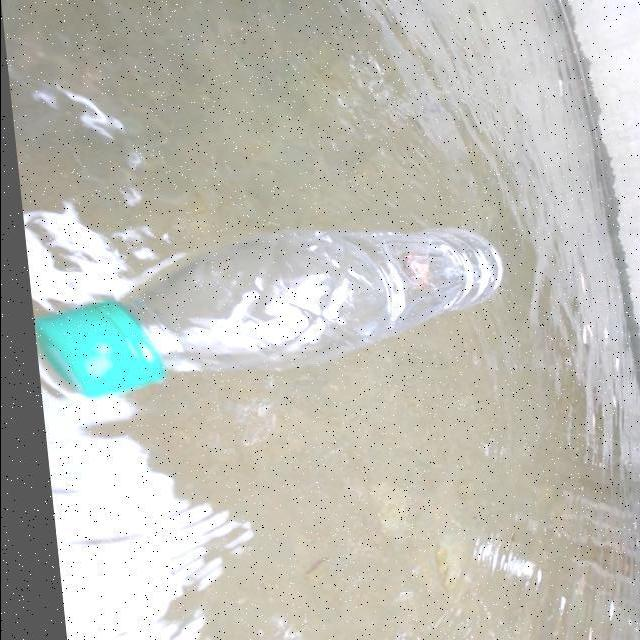Bottle: (35, 227, 504, 403)
